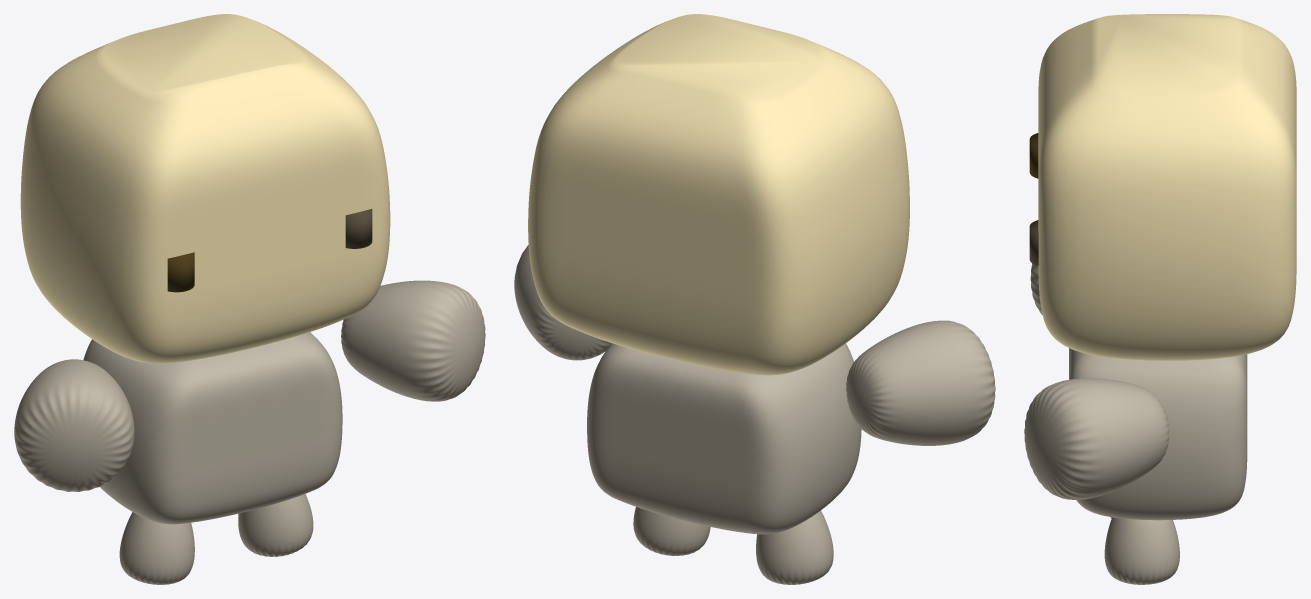
The picture shows the model from 3 angles, left to right: view 1: azimuth 30°, elevation 25°; view 2: azimuth 150°, elevation 25°; view 3: azimuth 270°, elevation 25°; orthographic projection. The views are drawn at different scales.
Visible parts, largest first — view 1: 머리, 몸, 오른팔, 왼팔, 왼발, 오른발, 왼눈, 오른눈; view 2: 머리, 몸, 왼팔, 왼발, 오른팔, 오른발; view 3: 머리, 몸, 오른팔, 오른발, 왼눈, 오른눈.
Part boxes in pixels (x1=…): 머리: x1=20, y1=14, x2=390, y2=363; 몸: x1=83, y1=332, x2=342, y2=524; 오른팔: x1=341, y1=280, x2=485, y2=401; 왼팔: x1=14, y1=359, x2=134, y2=491; 왼발: x1=119, y1=512, x2=194, y2=584; 오른발: x1=238, y1=494, x2=313, y2=556; 왼눈: x1=167, y1=252, x2=194, y2=292; 오른눈: x1=345, y1=209, x2=372, y2=248; 머리: x1=528, y1=14, x2=909, y2=375; 몸: x1=587, y1=343, x2=861, y2=534; 왼팔: x1=846, y1=320, x2=995, y2=445; 왼발: x1=756, y1=510, x2=833, y2=584; 오른팔: x1=514, y1=245, x2=611, y2=360; 오른발: x1=633, y1=507, x2=710, y2=555; 머리: x1=1038, y1=14, x2=1296, y2=360; 몸: x1=1069, y1=348, x2=1247, y2=520; 오른팔: x1=1024, y1=378, x2=1169, y2=499; 오른발: x1=1104, y1=517, x2=1179, y2=584; 왼눈: x1=1029, y1=133, x2=1038, y2=178; 오른눈: x1=1029, y1=220, x2=1038, y2=265.
Size of the model in its own units: 572 by 601 by 292.
